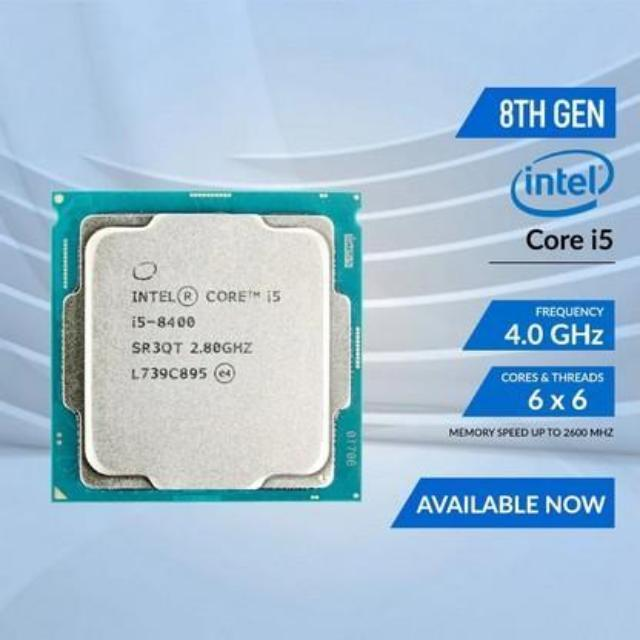CPU: (54, 188, 357, 502)
